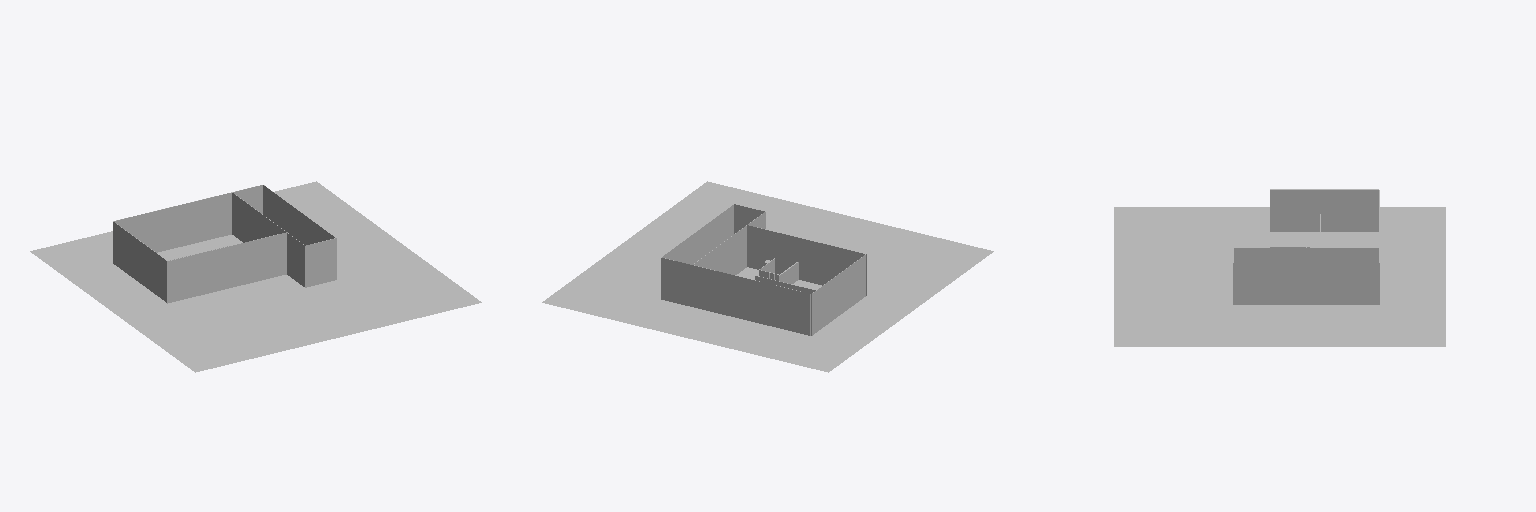
Rendered from room5.obj.
The picture shows the model from 3 angles: view 1: azimuth 30°, elevation 25°; view 2: azimuth 150°, elevation 25°; view 3: azimuth 270°, elevation 25°; orthographic projection.
Parts seen in each view (by area): view 1: group29 pPlane1, group29 pCube4, group29 pCube1, group29 pCube42, group29 pCube3, group29 pCube23, group29 pCube6, group29 pCube5; view 2: group29 pPlane1, group29 pCube1, group29 pCube4, group29 pCube42, group29 pCube3, group29 pCube23; view 3: group29 pPlane1, group29 pCube3, group29 pCube42, group29 pCube23, group29 pCube5.
Part boxes in pixels (bbox=[...]): group29 pPlane1: bbox=[30, 181, 481, 372]; group29 pCube4: bbox=[167, 232, 287, 303]; group29 pCube1: bbox=[114, 185, 262, 252]; group29 pCube42: bbox=[113, 221, 166, 302]; group29 pCube3: bbox=[263, 185, 335, 245]; group29 pCube23: bbox=[232, 192, 285, 242]; group29 pCube6: bbox=[305, 238, 336, 287]; group29 pCube5: bbox=[287, 233, 304, 286]; group29 pPlane1: bbox=[542, 181, 993, 372]; group29 pCube1: bbox=[661, 257, 810, 335]; group29 pCube4: bbox=[747, 225, 866, 295]; group29 pCube42: bbox=[811, 254, 865, 335]; group29 pCube3: bbox=[662, 204, 733, 264]; group29 pCube23: bbox=[693, 225, 746, 274]; group29 pPlane1: bbox=[1114, 207, 1445, 346]; group29 pCube3: bbox=[1234, 263, 1378, 304]; group29 pCube42: bbox=[1270, 189, 1378, 231]; group29 pCube23: bbox=[1270, 248, 1378, 262]; group29 pCube5: bbox=[1234, 248, 1269, 262].
Size of the model in its own units: 5000 by 700 by 5000.